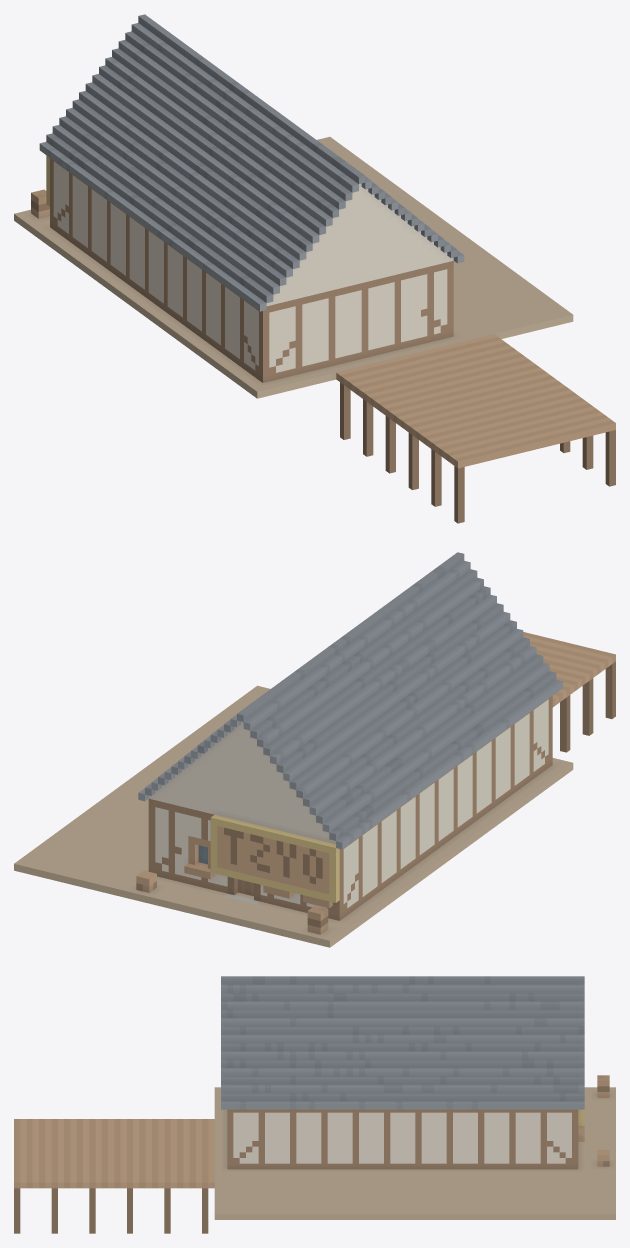
The model's file is oyster_beds.glb.
3 renders of one model, top to bottom at view 1: azimuth 30°, elevation 25°; view 2: azimuth 150°, elevation 25°; view 3: azimuth 270°, elevation 25°, orthographic. The views are drawn at different scales.
Visible parts, largest first — view 1: oyster_beds; view 2: oyster_beds; view 3: oyster_beds.
Boxes of the visible parts, x1,y1,x2,y2 form: oyster_beds: [14, 14, 615, 523]; oyster_beds: [14, 552, 615, 947]; oyster_beds: [14, 976, 615, 1233].
Bounding box in the file's own units: 6 × 4.5 × 12.
